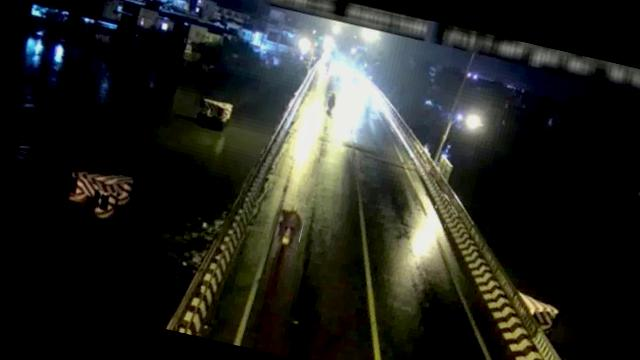Bike: (274, 202, 308, 252), (324, 92, 339, 113)
